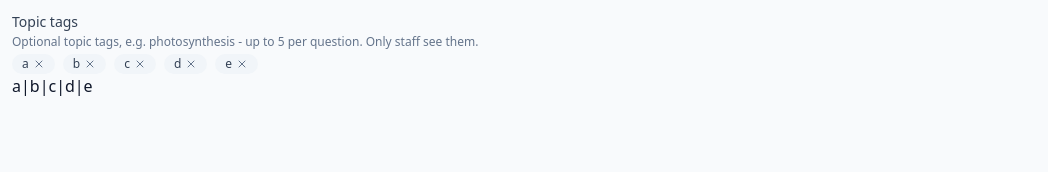
Scenario: QuestionTagsField › removes a tag and hides the input once five tags are set
Expected: the field with placeholder "Add a tag" is not shown
Click the button named "Remove tag c".
click(140, 64)  # box [134, 58, 146, 70]
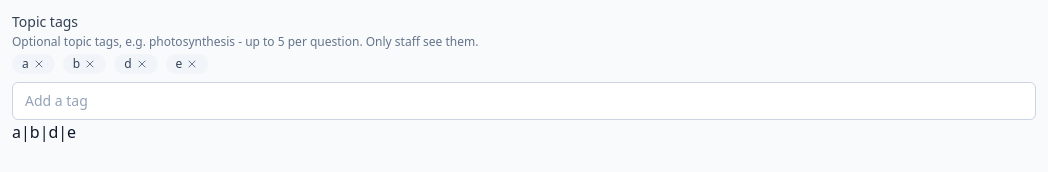
Now the text with test id "tags" reads "a|b|d|e", box [12, 121, 76, 143]
Now the field with placeholder "Add a tag" is shown, box [12, 82, 1036, 120]
